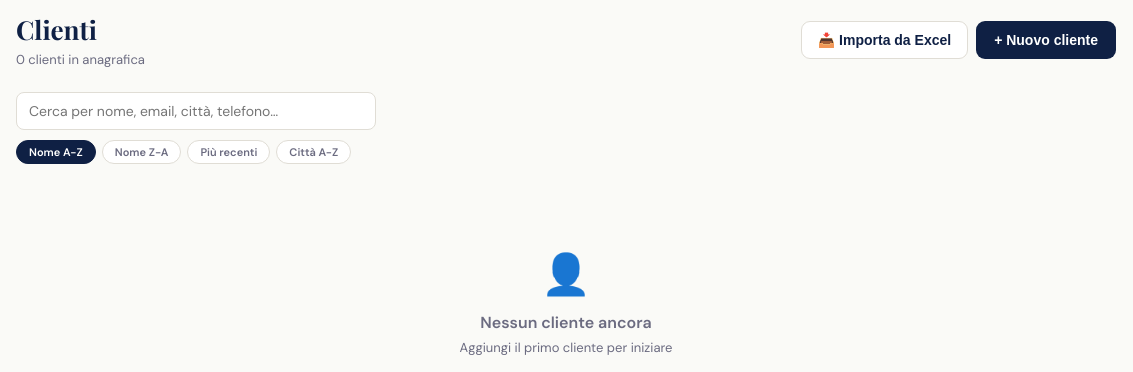
ClientiView — la ricerca lato server segue le mutazioni locali › a caricamento fallito (corpus vuoto, attesa chiusa) non si cancella nulla
In the field with placeholder "Cerca per nome, email, città, telefono…": (196, 111) [16, 92, 376, 130], type "masi alessan"
Wait 300 ms
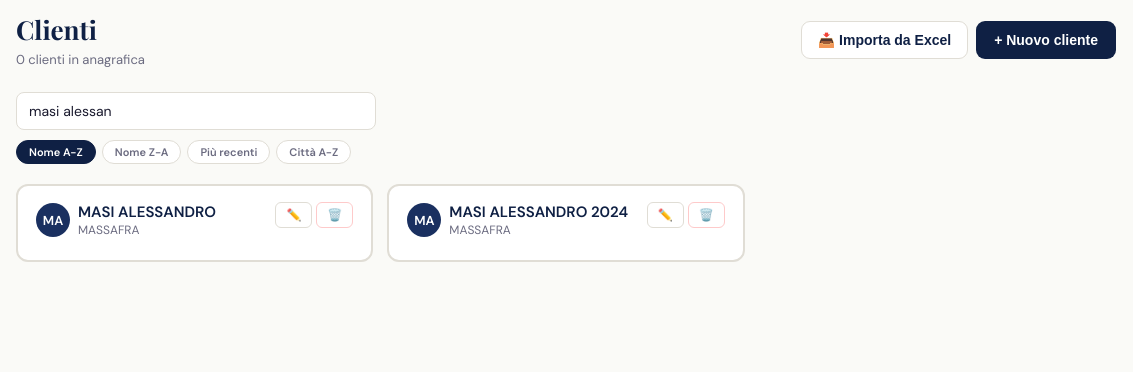
Now the text "MASI ALESSANDRO 2024" is shown, box [449, 202, 628, 222]
